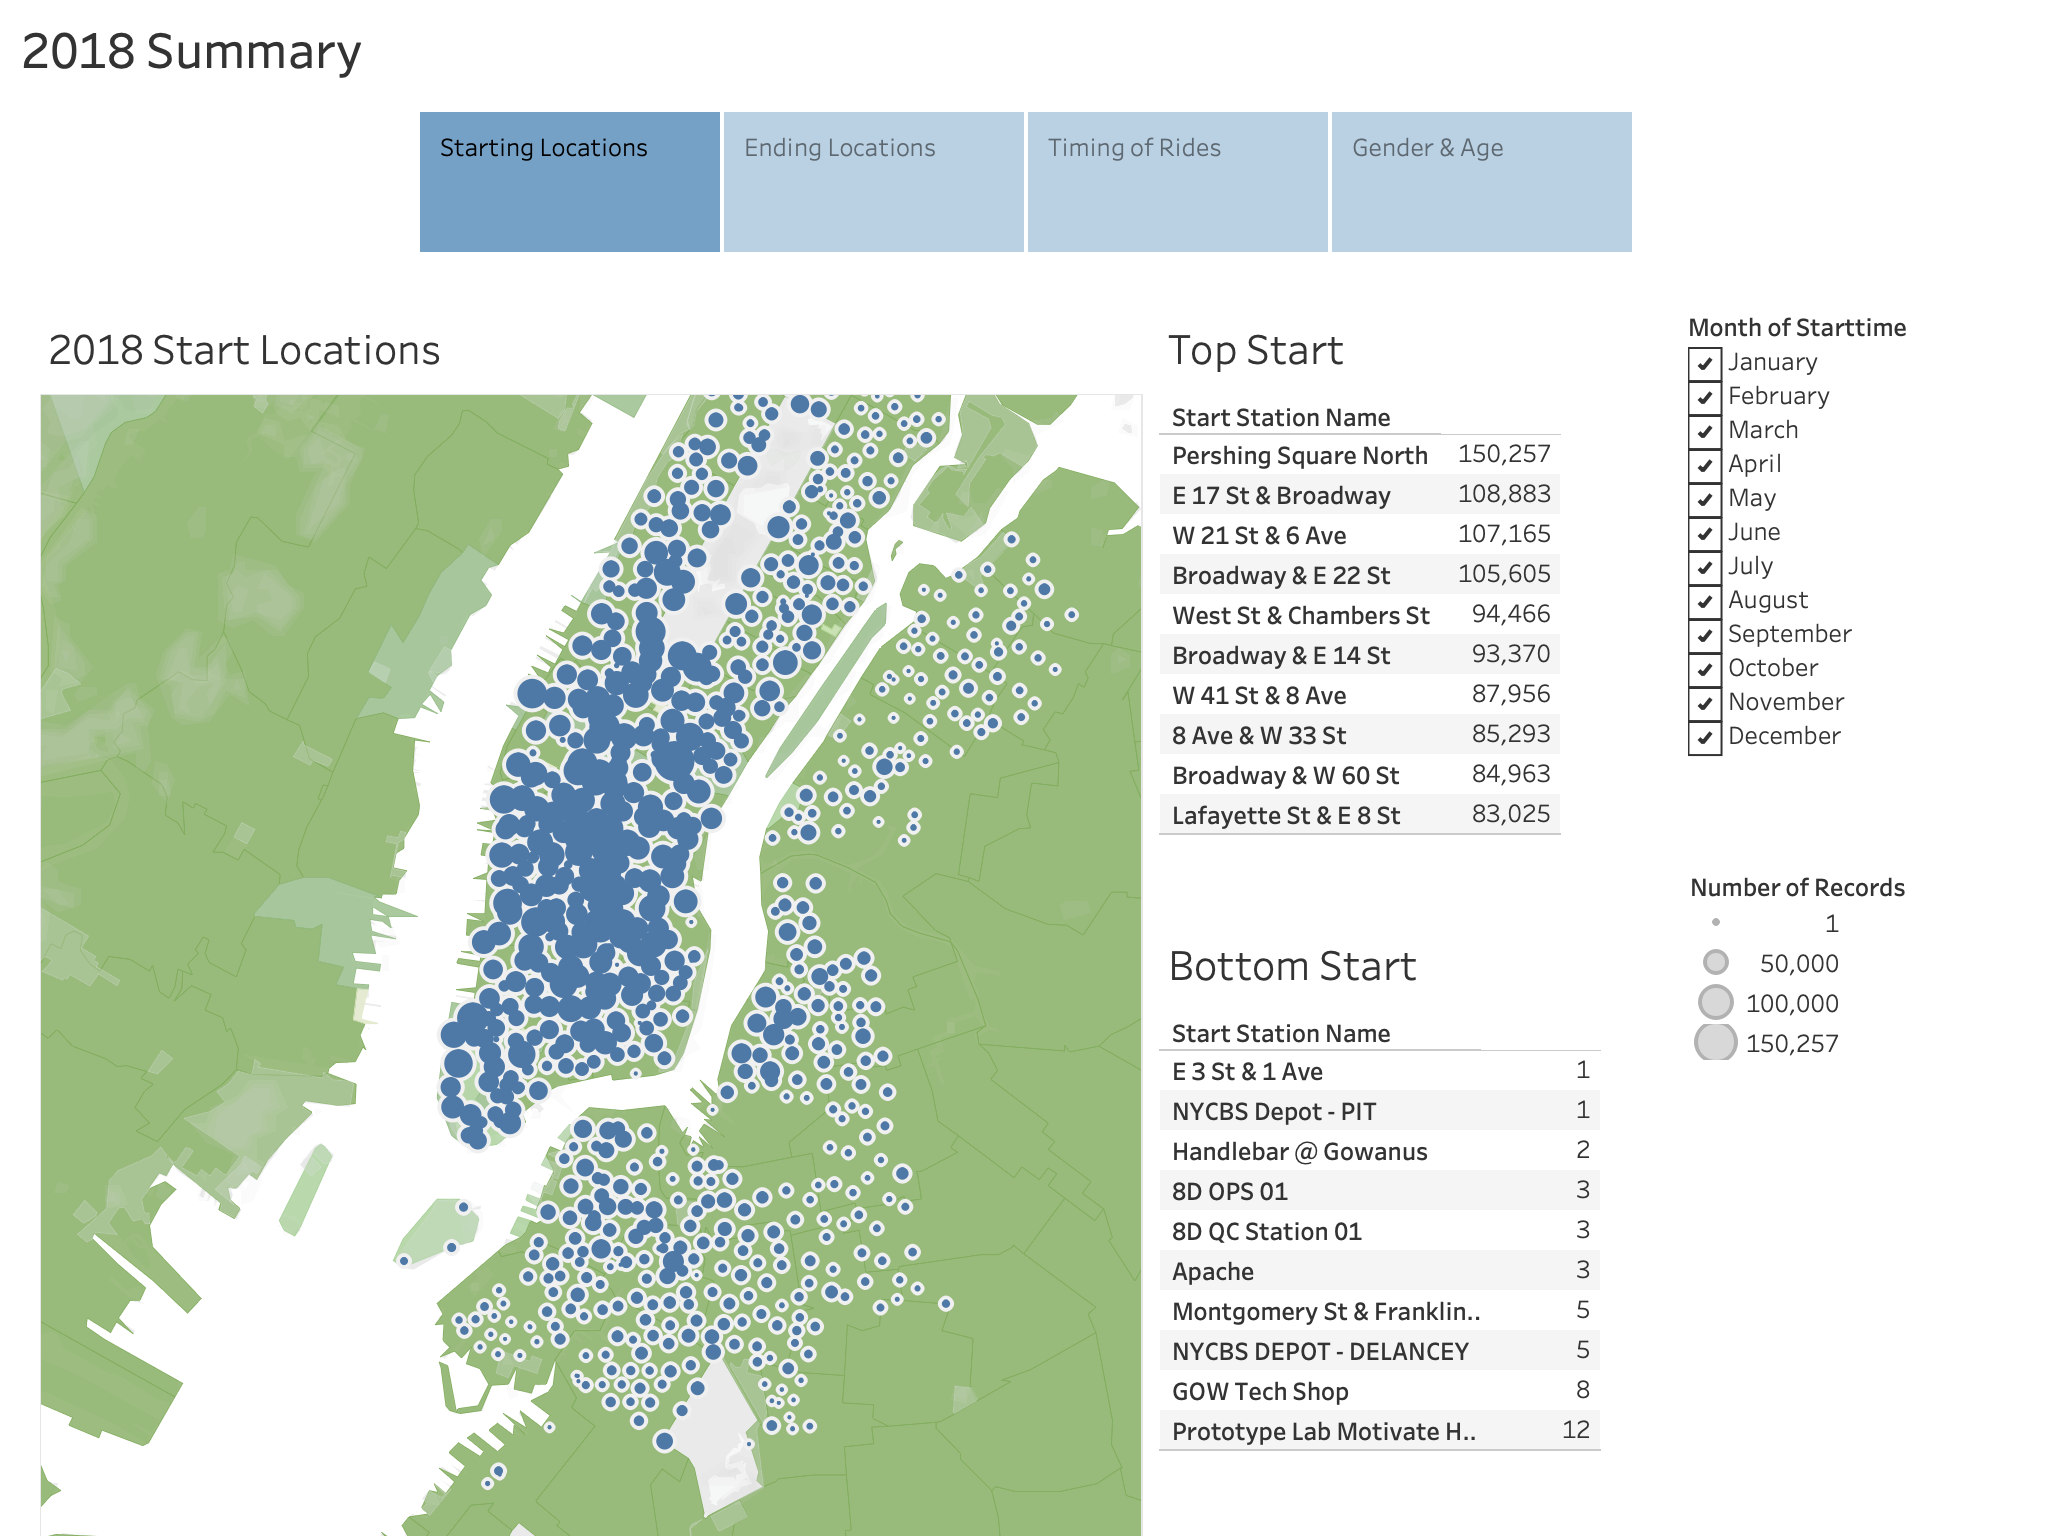

The dashboard page shown, as its layout file describes it:
{"tool":"tableau","page":{"name":"Starting Info","canvas":[1000,800],"ordinal":3},"visuals":[{"type":"worksheet","title":"2018 Start Locations","mark":"Pie","rows":["start station latitude"],"cols":["start station longitude"],"box":[8,8,560,784]},{"type":"worksheet","title":"Top Start","mark":"Automatic","rows":["start station name"],"box":[568,8,264,308]},{"type":"filter","title":"2018 Start Locations","param":"[federated.0b0dhqf1xob8qc129ekpz0kli30j].[mn:starttime:ok]","box":[832,8,160,279]},{"type":"legend","title":"2018 Start Locations","param":"[federated.0b0dhqf1xob8qc129ekpz0kli30j].[sum:Number of Records:qk]","box":[832,287,160,106]},{"type":"worksheet","title":"Bottom Start","mark":"Automatic","rows":["start station name"],"box":[568,316,264,476]}]}

Visuals, with their boxes on the page's 1000x800 design canvas (x1, y1, x2, y2). These are canvas units, not pixel positions in the 2048x1536 screenshot, which may show the page scaled, cropped or inside an application window:
"2018 Start Locations" worksheet (Pie marks): l=8, t=8, r=568, b=792
"Top Start" worksheet: l=568, t=8, r=832, b=316
"2018 Start Locations" filter: l=832, t=8, r=992, b=287
"2018 Start Locations" legend: l=832, t=287, r=992, b=393
"Bottom Start" worksheet: l=568, t=316, r=832, b=792
